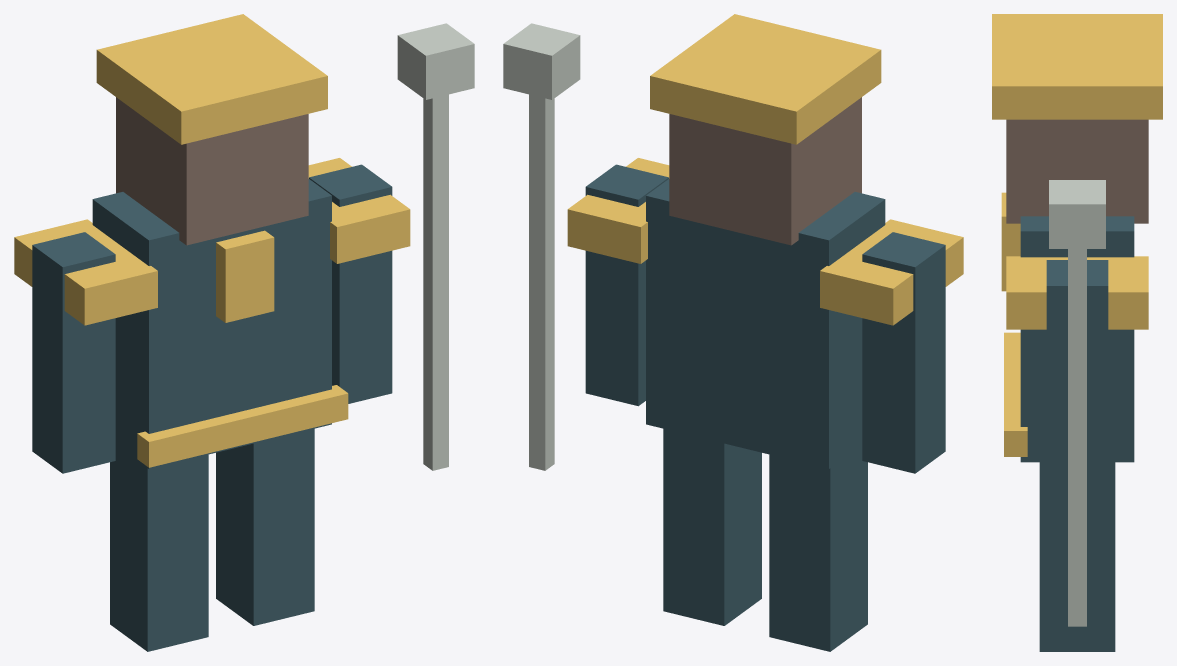
The model's file is 05_dax_starfall_cartographer_from_spectator.glb.
3 views of the same model, side by side, from view 1: azimuth 30°, elevation 25°; view 2: azimuth 150°, elevation 25°; view 3: azimuth 270°, elevation 25° (orthographic).
Parts seen in each view (by area): view 1: Dax Starfall, Cartographer from Spectator; view 2: Dax Starfall, Cartographer from Spectator; view 3: Dax Starfall, Cartographer from Spectator.
Boxes of the visible parts, x1,y1,x2,y2 form: Dax Starfall, Cartographer from Spectator: (14,14,474,651); Dax Starfall, Cartographer from Spectator: (503,14,963,651); Dax Starfall, Cartographer from Spectator: (992,14,1162,651).
Bounding box in the file's own units: 1.1 × 1.41 × 0.3892.
